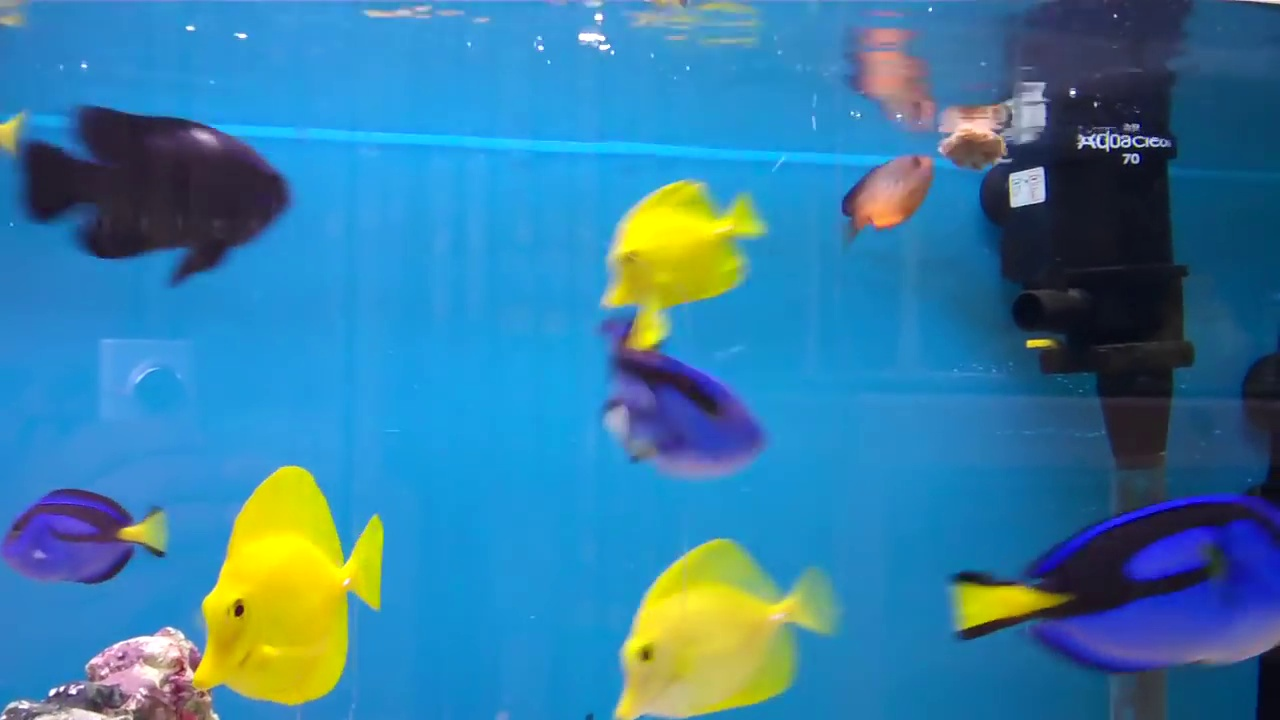blue tang surgeonfish: (914, 457, 1280, 691), (543, 327, 789, 492), (2, 466, 168, 589)
saddle butterfly fish: (170, 454, 418, 710), (593, 544, 838, 720), (583, 183, 777, 313)
